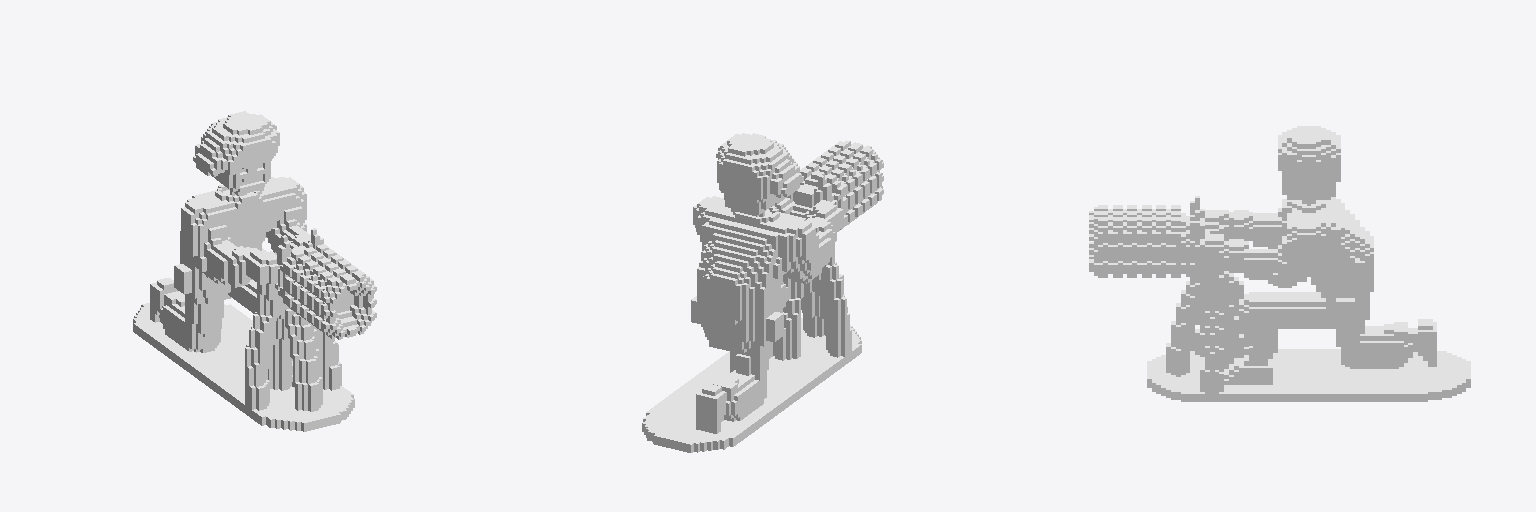
Rendered from machinegun_soldier_LVL3_4.0.obj.
3 renders of one model, left to right at view 1: azimuth 30°, elevation 25°; view 2: azimuth 150°, elevation 25°; view 3: azimuth 270°, elevation 25°, orthographic.
Visible parts, largest first — view 1: object 1; view 2: object 1; view 3: object 1.
Part boxes in pixels (left/top/right/bottom): object 1: left=133, top=111, right=376, bottom=431; object 1: left=642, top=133, right=883, bottom=452; object 1: left=1089, top=126, right=1470, bottom=401.
Size of the model in its own units: 2.7 by 5.6 by 7.9.